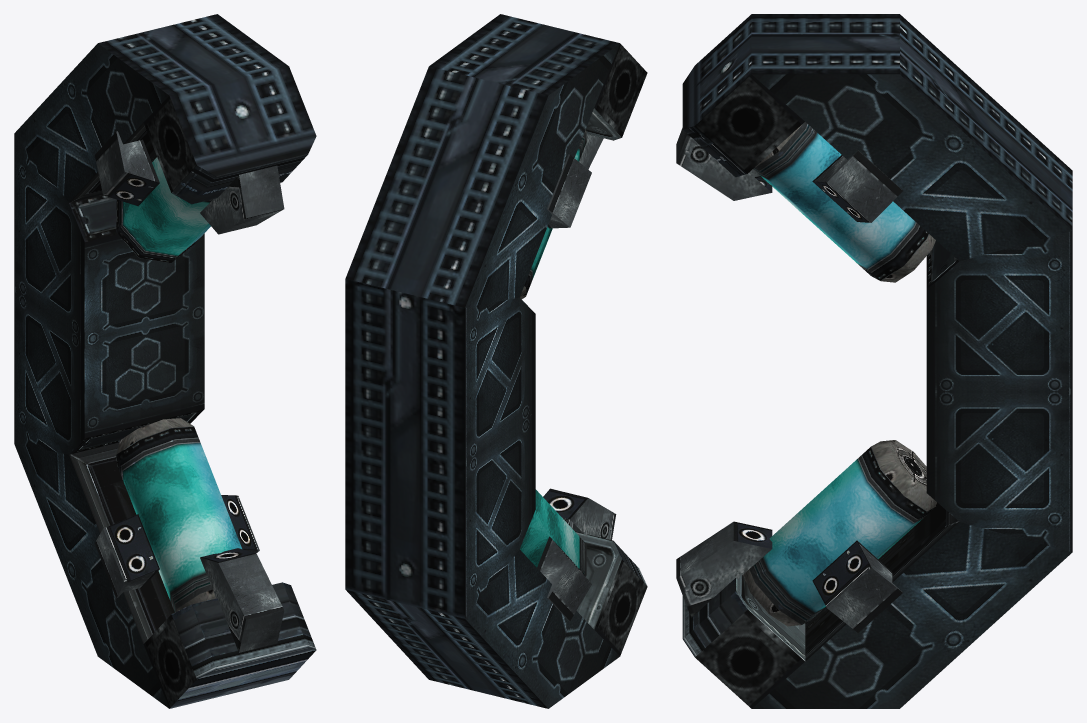
File: Battery_arch01.FBX
3 views of the same model, side by side, from view 1: azimuth 30°, elevation 25°; view 2: azimuth 150°, elevation 25°; view 3: azimuth 270°, elevation 25° (orthographic). The views are drawn at different scales.
Visible parts, largest first — view 1: Battery_arch01; view 2: Battery_arch01; view 3: Battery_arch01.
Boxes of the visible parts, box(x1,y1,x2,y2) form: Battery_arch01: box(14, 14, 316, 708); Battery_arch01: box(345, 14, 647, 708); Battery_arch01: box(676, 14, 1072, 708).
Size of the model in its own units: 138 by 598 by 338.
